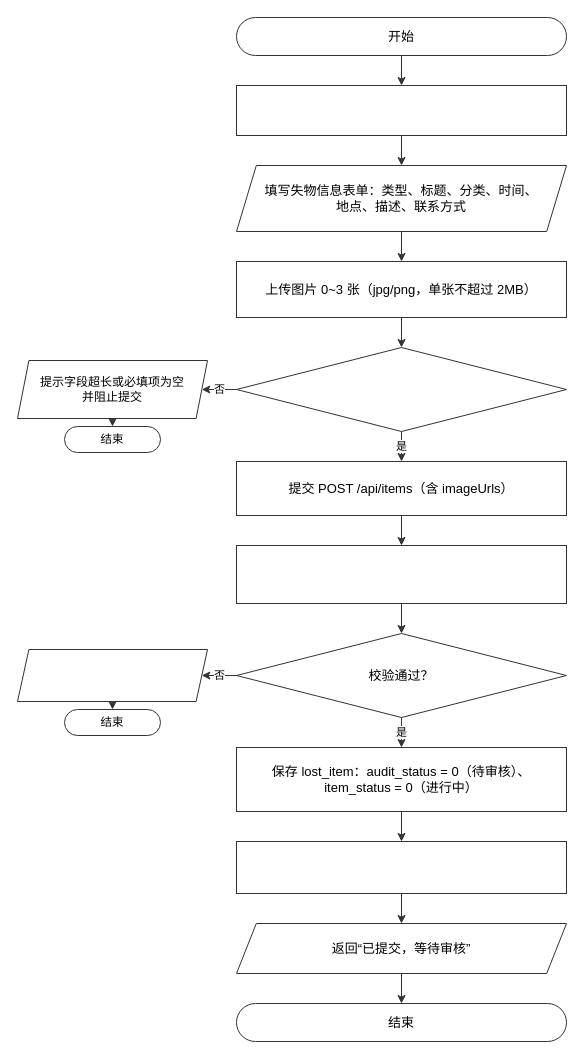
Image size: 584x1059. Some labels were removed from this diagram. Each missing label, with the centre of its shape:
"JWT 拦截器校验登录状态" goes at point (401, 110).
"前端校验通过？" goes at point (401, 389).
"后端校验：字段长度、分类存在性、登录用户一致" goes at point (401, 574).
"按 sort 保存 item_image 记录" goes at point (401, 867).
"返回 400 与具体字段错误信息" goes at point (112, 675).
